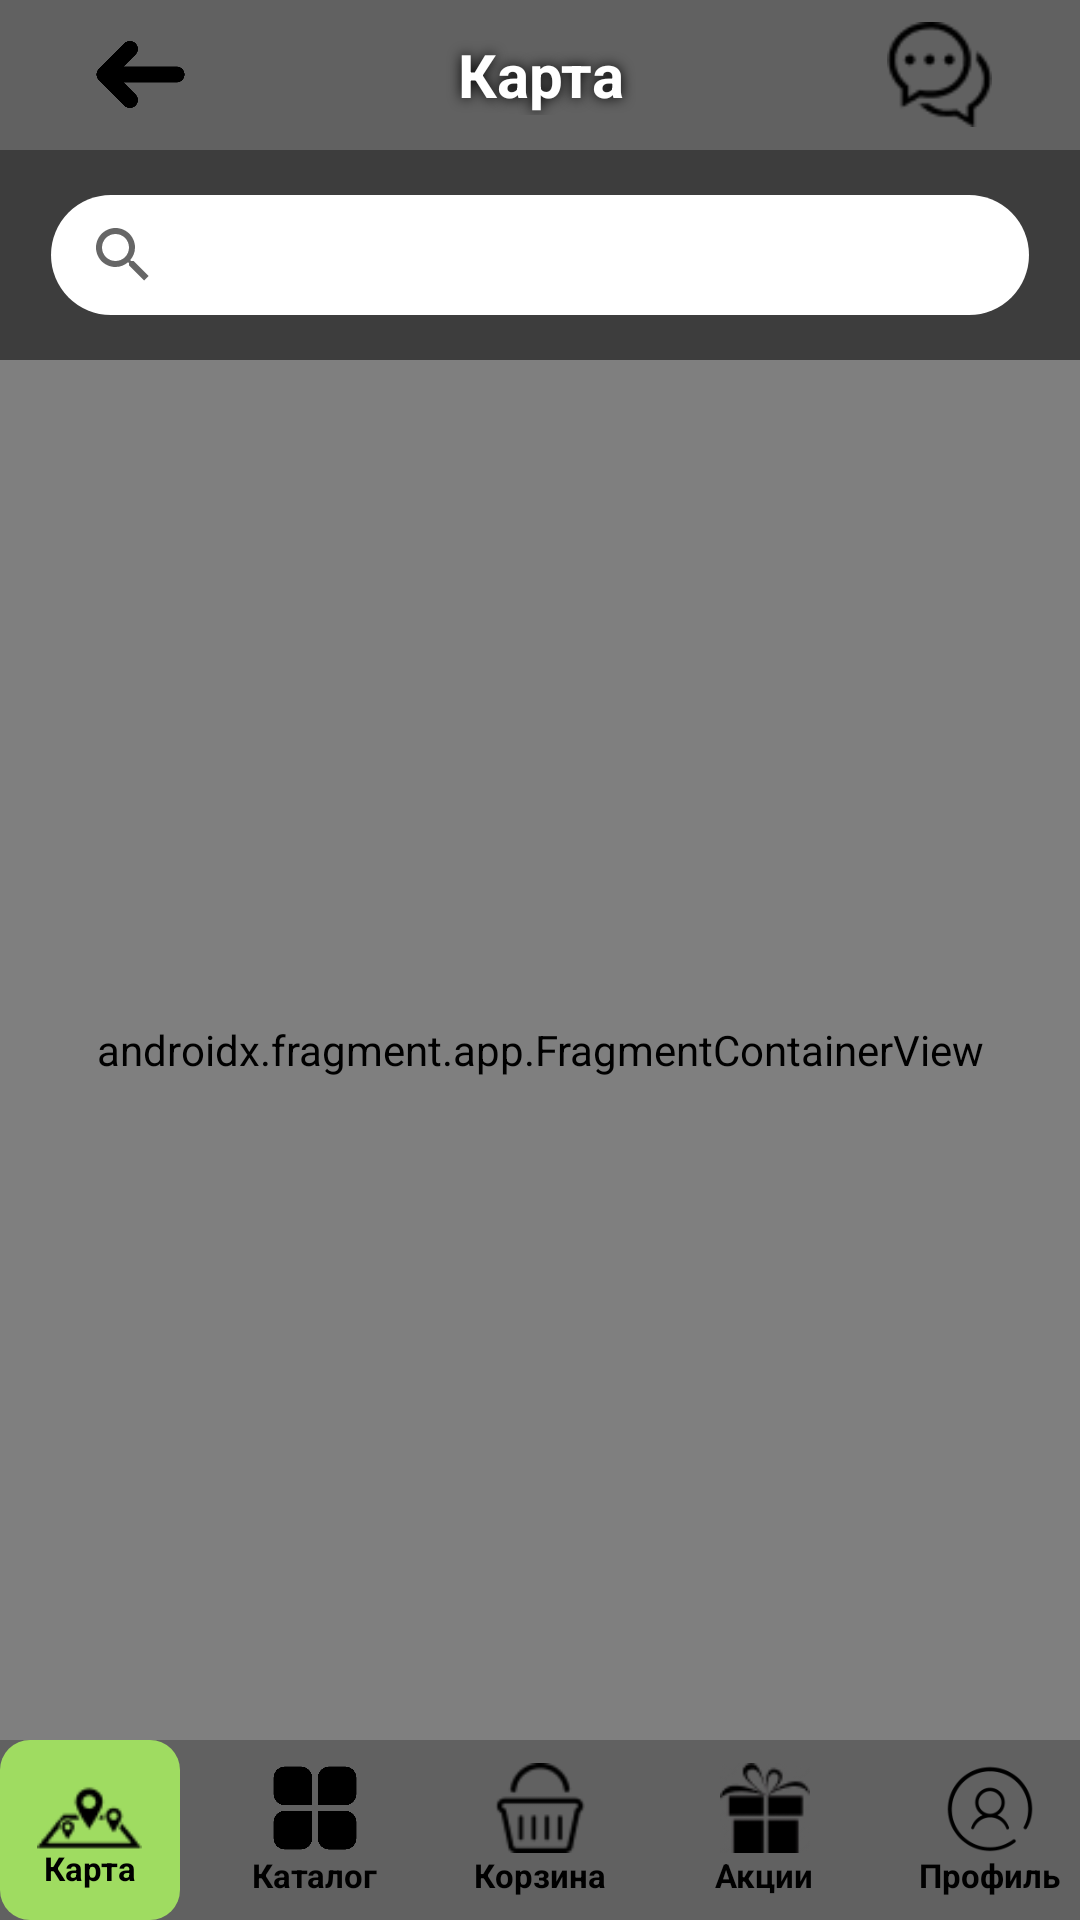

Icon click points for this 1080w x 1920h phone screenshot, format (x,y):
Техническая поддержка: (939,74)
